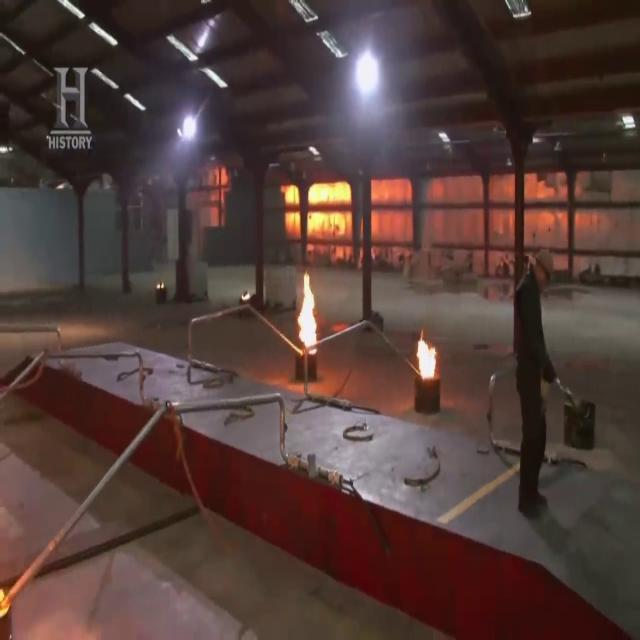Fire: (307, 181, 352, 236), (297, 270, 319, 356), (416, 338, 438, 380), (285, 186, 301, 235)
